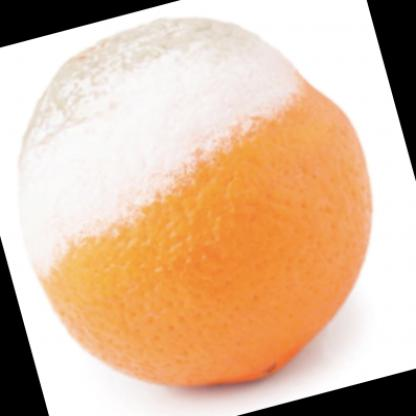rotten_orange: (17, 12, 375, 404)
